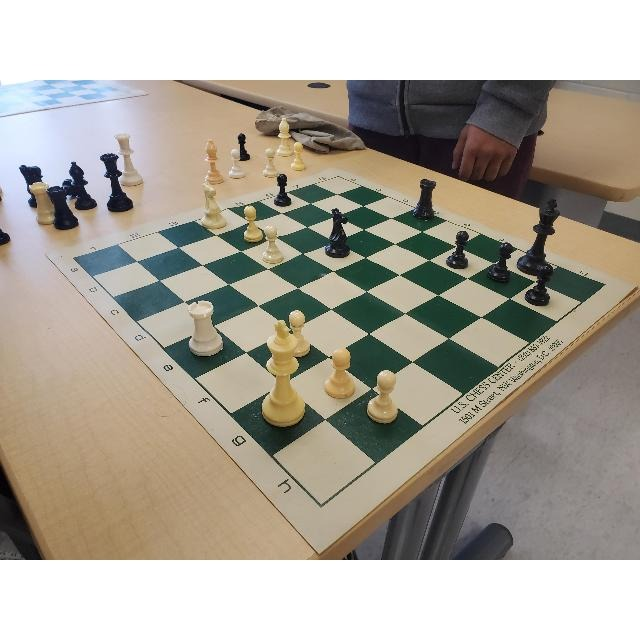black-king: (515, 195, 561, 275)
black-knight: (324, 208, 352, 259)
black-pawn: (484, 240, 515, 284), (523, 262, 554, 306), (444, 230, 469, 270), (272, 172, 293, 207)
black-rook: (410, 177, 435, 222)
white-king: (260, 318, 306, 426)
white-knight: (200, 181, 226, 228)
white-pawn: (366, 370, 400, 424), (324, 347, 356, 399), (285, 310, 311, 356), (261, 224, 285, 263), (241, 205, 264, 243)
white-rook: (186, 300, 226, 359)
